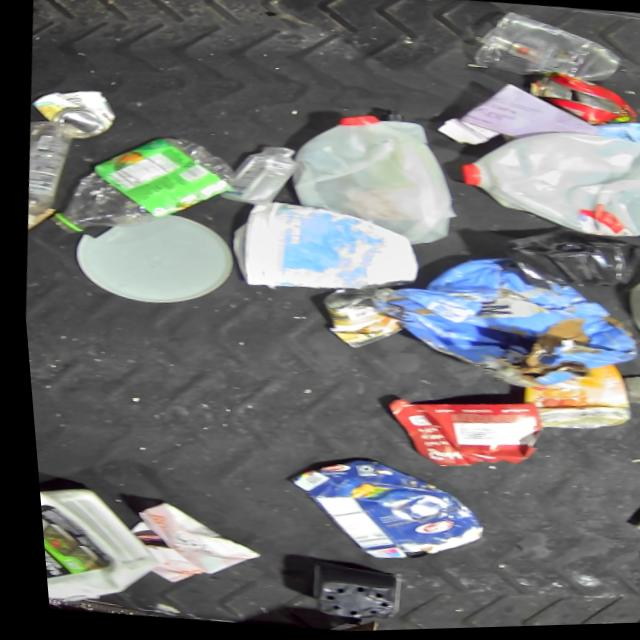can: (522, 69, 640, 135), (310, 284, 402, 356), (24, 82, 119, 144), (620, 489, 640, 547), (626, 543, 640, 582)
milk_jug: (277, 107, 464, 256), (448, 121, 640, 250), (612, 256, 640, 367)
non_white_jug: (31, 478, 159, 609)
plastic_bottle: (37, 122, 243, 252)
